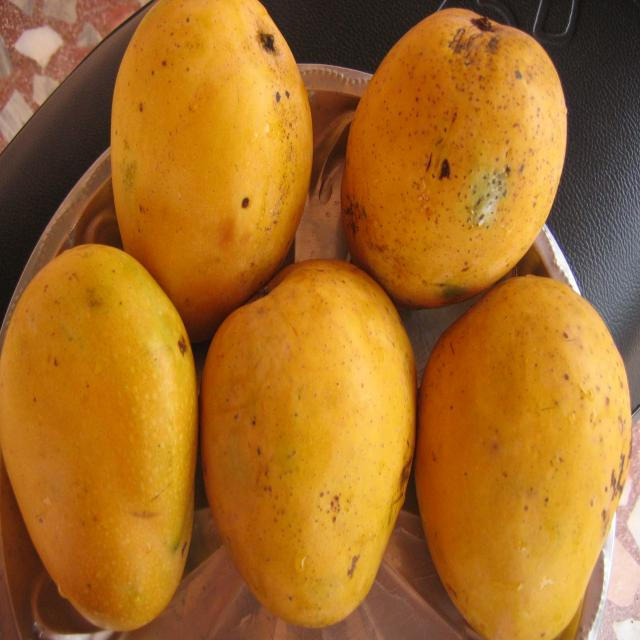mango: (412, 277, 632, 637), (0, 243, 197, 640), (205, 258, 408, 624), (111, 1, 312, 344), (342, 8, 566, 310)
